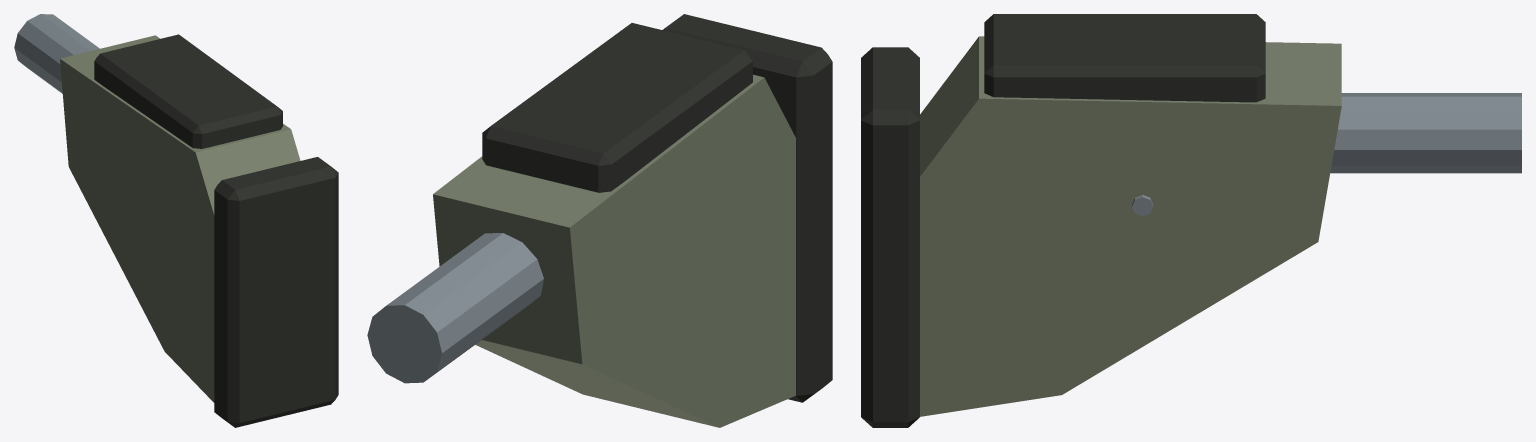
Rendered from weapon_yak762_stock.glb.
3 renders of one model, left to right at view 1: azimuth 30°, elevation 25°; view 2: azimuth 150°, elevation 25°; view 3: azimuth 270°, elevation 25°, orthographic. The views are drawn at different scales.
Visible parts, largest first — view 1: Geometry_weapon_yak762_stock; view 2: Geometry_weapon_yak762_stock; view 3: Geometry_weapon_yak762_stock.
Boxes of the visible parts, x1,y1,x2,y2 form: Geometry_weapon_yak762_stock: (14,14,338,427); Geometry_weapon_yak762_stock: (367,14,832,427); Geometry_weapon_yak762_stock: (861,14,1521,427).
Bounding box in the file's own units: 0.067 × 0.147 × 0.2466.
